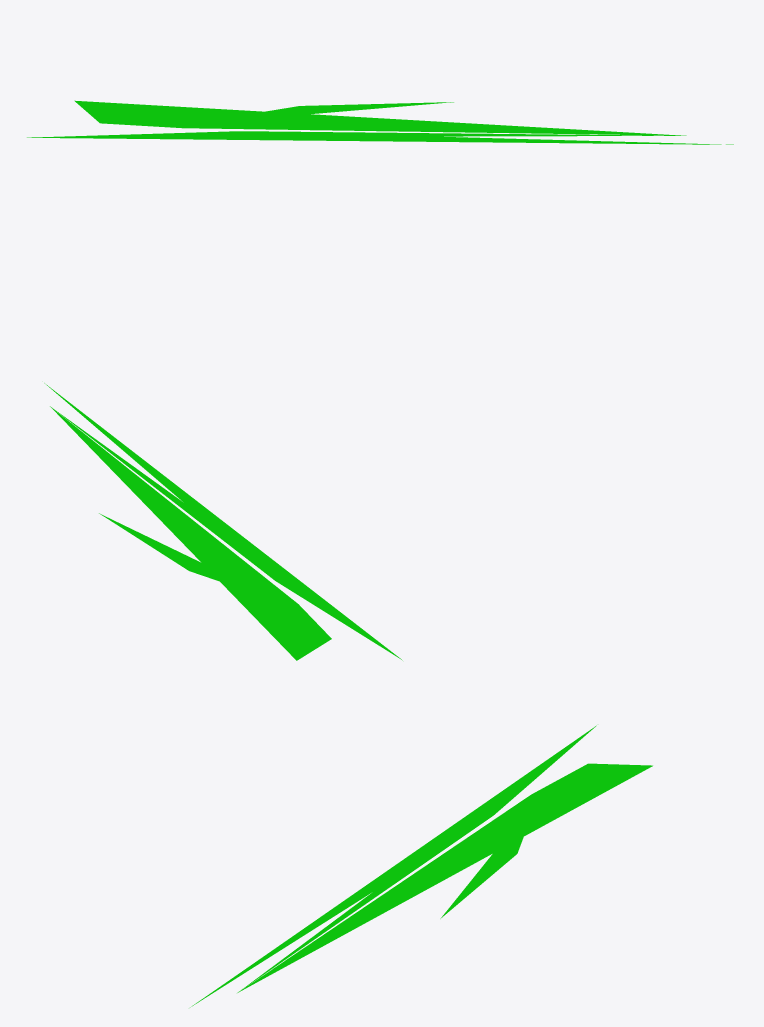
The picture shows the model from 3 angles, top to bottom: view 1: azimuth 30°, elevation 25°; view 2: azimuth 150°, elevation 25°; view 3: azimuth 270°, elevation 25°; orthographic projection. The views are drawn at different scales.
Size of the model in its own units: 296 by 0 by 285.
